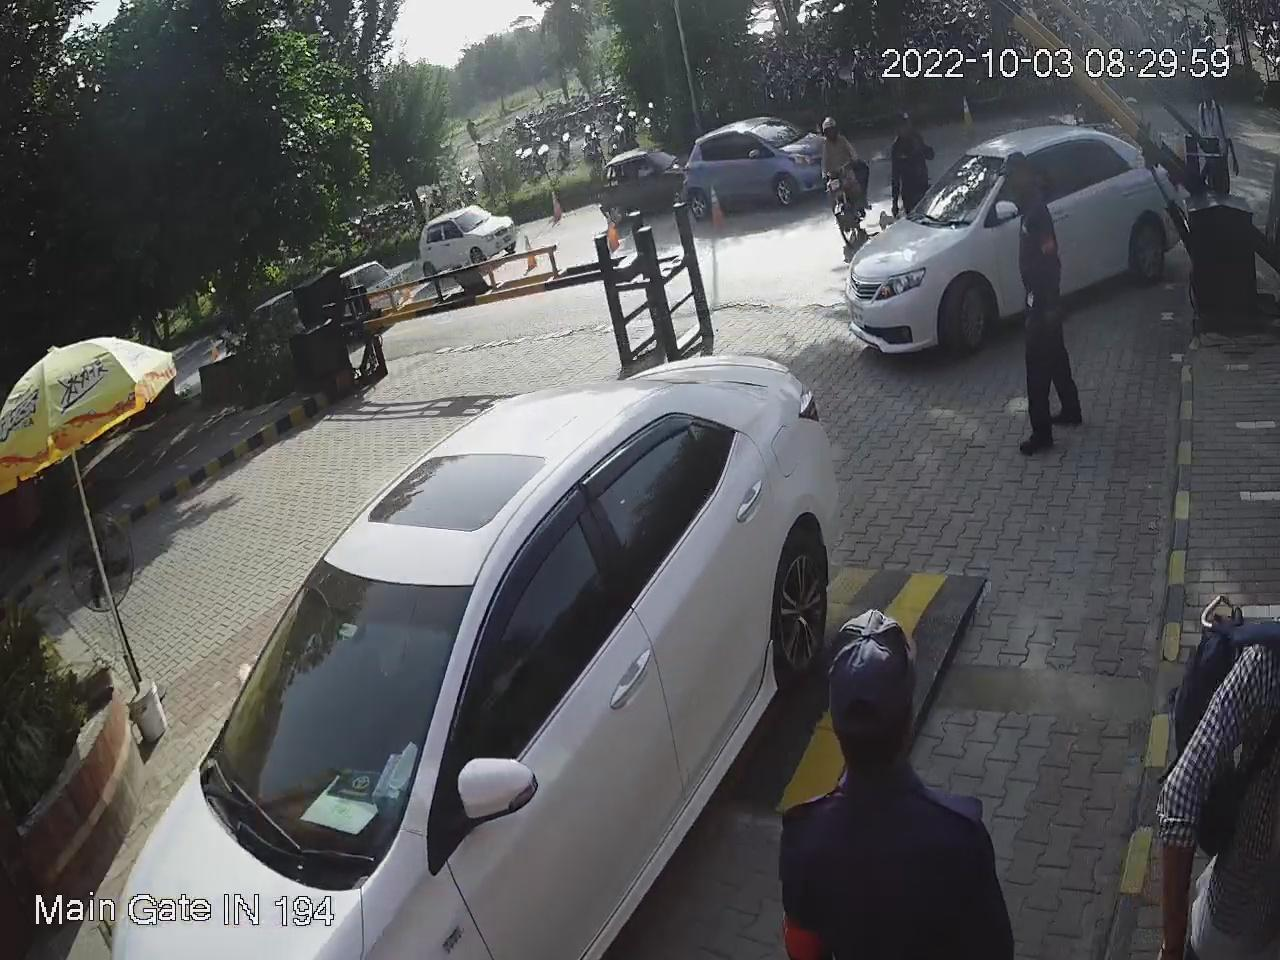windshield: (208, 555, 481, 872)
